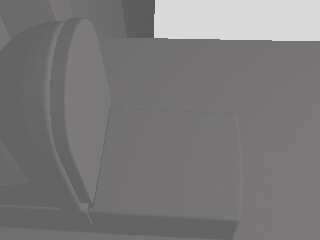lid_1: (50, 19, 110, 203)
